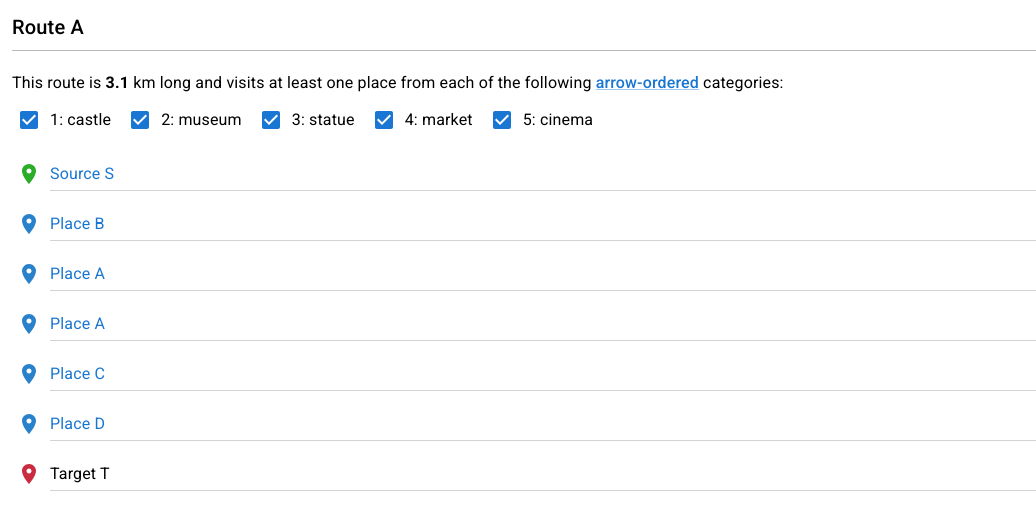
<ViewerRouteContent /> › category filters › filter controls only one waypoint for a repeated point
Expected: the number of list items "Place A" is 2, [12,257,1035,291]; [12,307,1035,341]
Click the 2nd checkbox named "Hide places": (140, 120) [123,103,157,137]
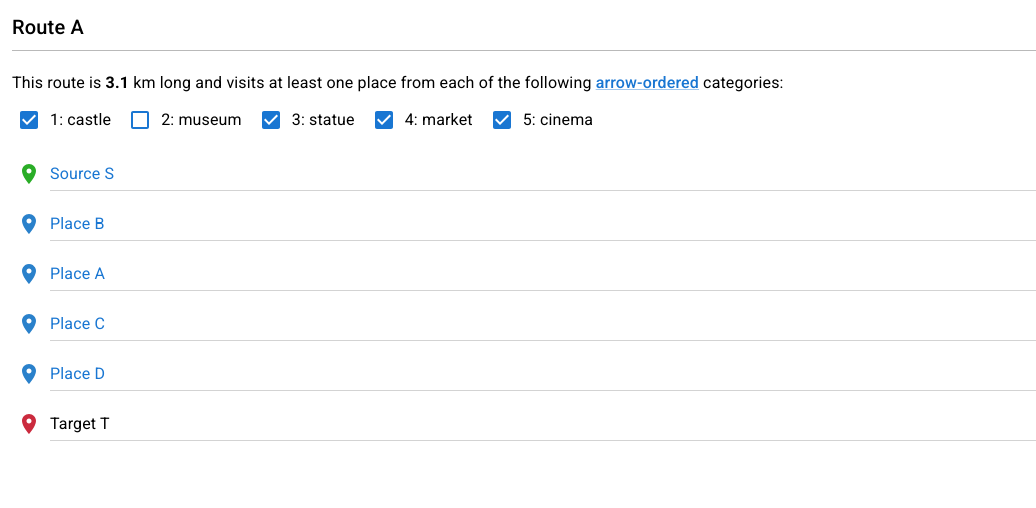
Expected: the number of list items "Place A" is 1, [12,257,1035,291]
